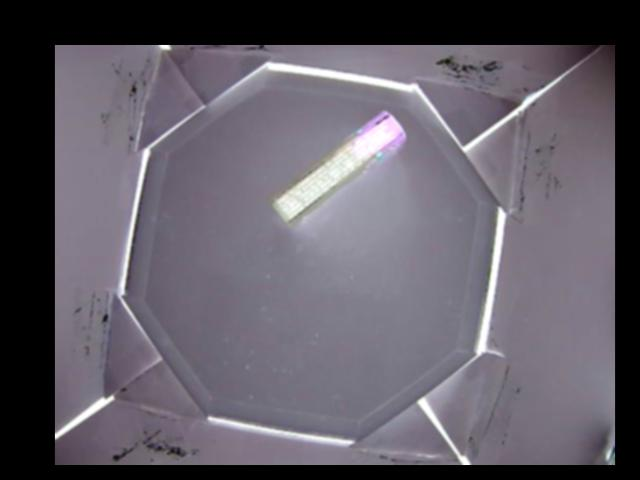Bottle: (272, 109, 411, 227)
